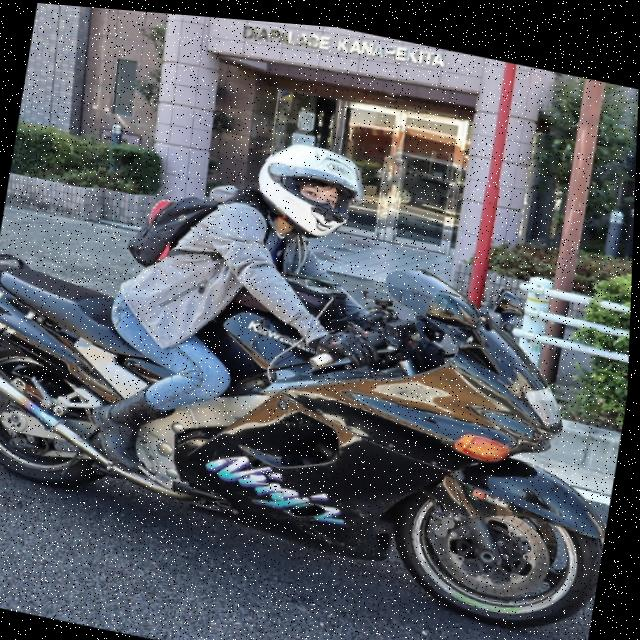helmet: (246, 124, 377, 245)
